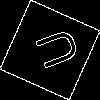U: (25, 25, 81, 76)
